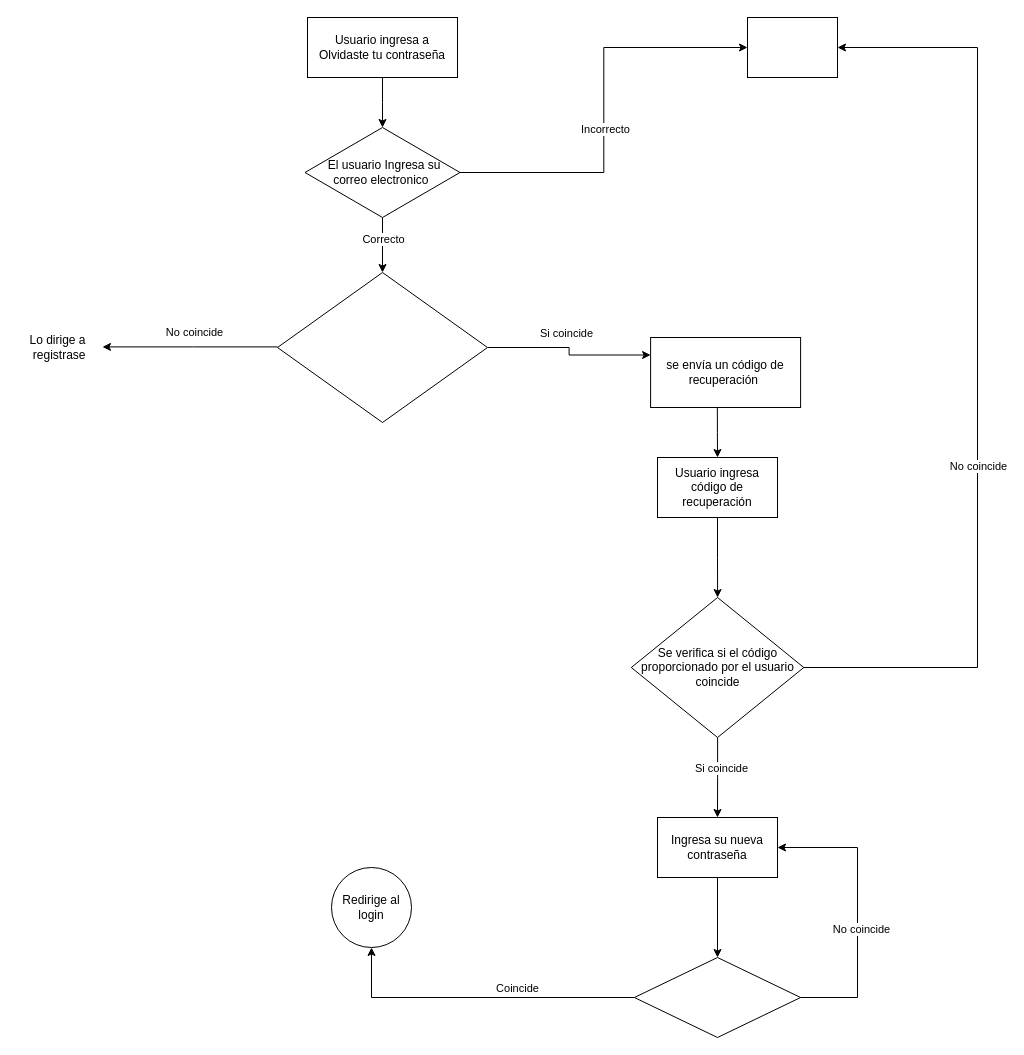
This 1024x1055 diagram has some shape labels left out. Here are the shapes that lost their labels. From the top down, the box of each, then its label:
(746, 16, 838, 78): Alerta error
(276, 272, 488, 422): Si la información proporcionada coincide con una cuenta registrada.
(633, 956, 801, 1038): Confirma la misma contraseña
